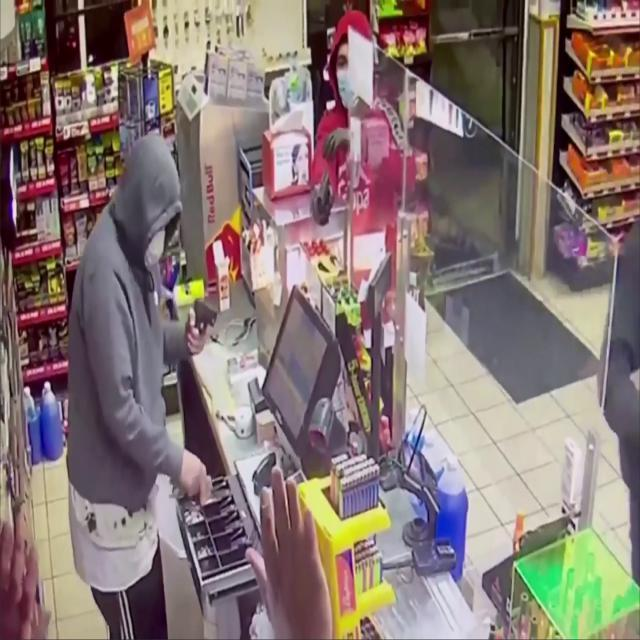gun: (190, 300, 218, 356), (317, 170, 331, 224)
